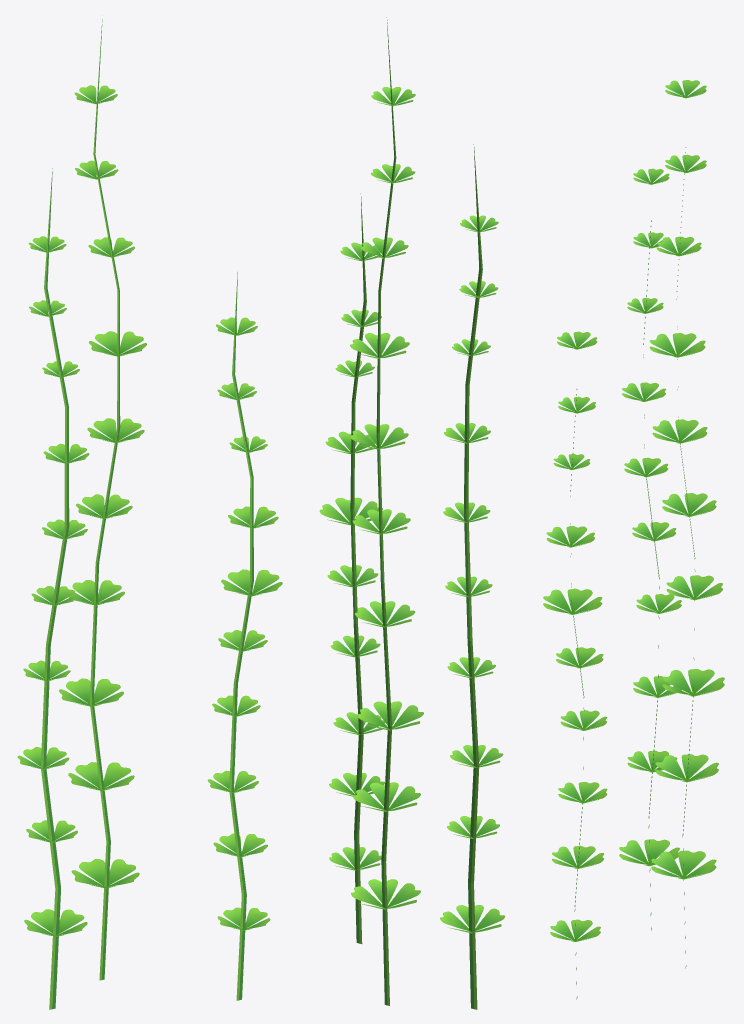
The picture shows the model from 3 angles, left to right: view 1: azimuth 30°, elevation 25°; view 2: azimuth 150°, elevation 25°; view 3: azimuth 270°, elevation 25°; orthographic projection. The views are drawn at different scales.
Visible parts, largest first — view 1: wk_s02_54; view 2: wk_s02_54; view 3: wk_s02_54.
Part boxes in pixels (bbox=[...]): wk_s02_54: bbox=[17, 19, 282, 1009]; wk_s02_54: bbox=[319, 17, 504, 1009]; wk_s02_54: bbox=[543, 80, 724, 999].
Bounding box in the file's own units: 6.18 × 4.52 × 24.86.
